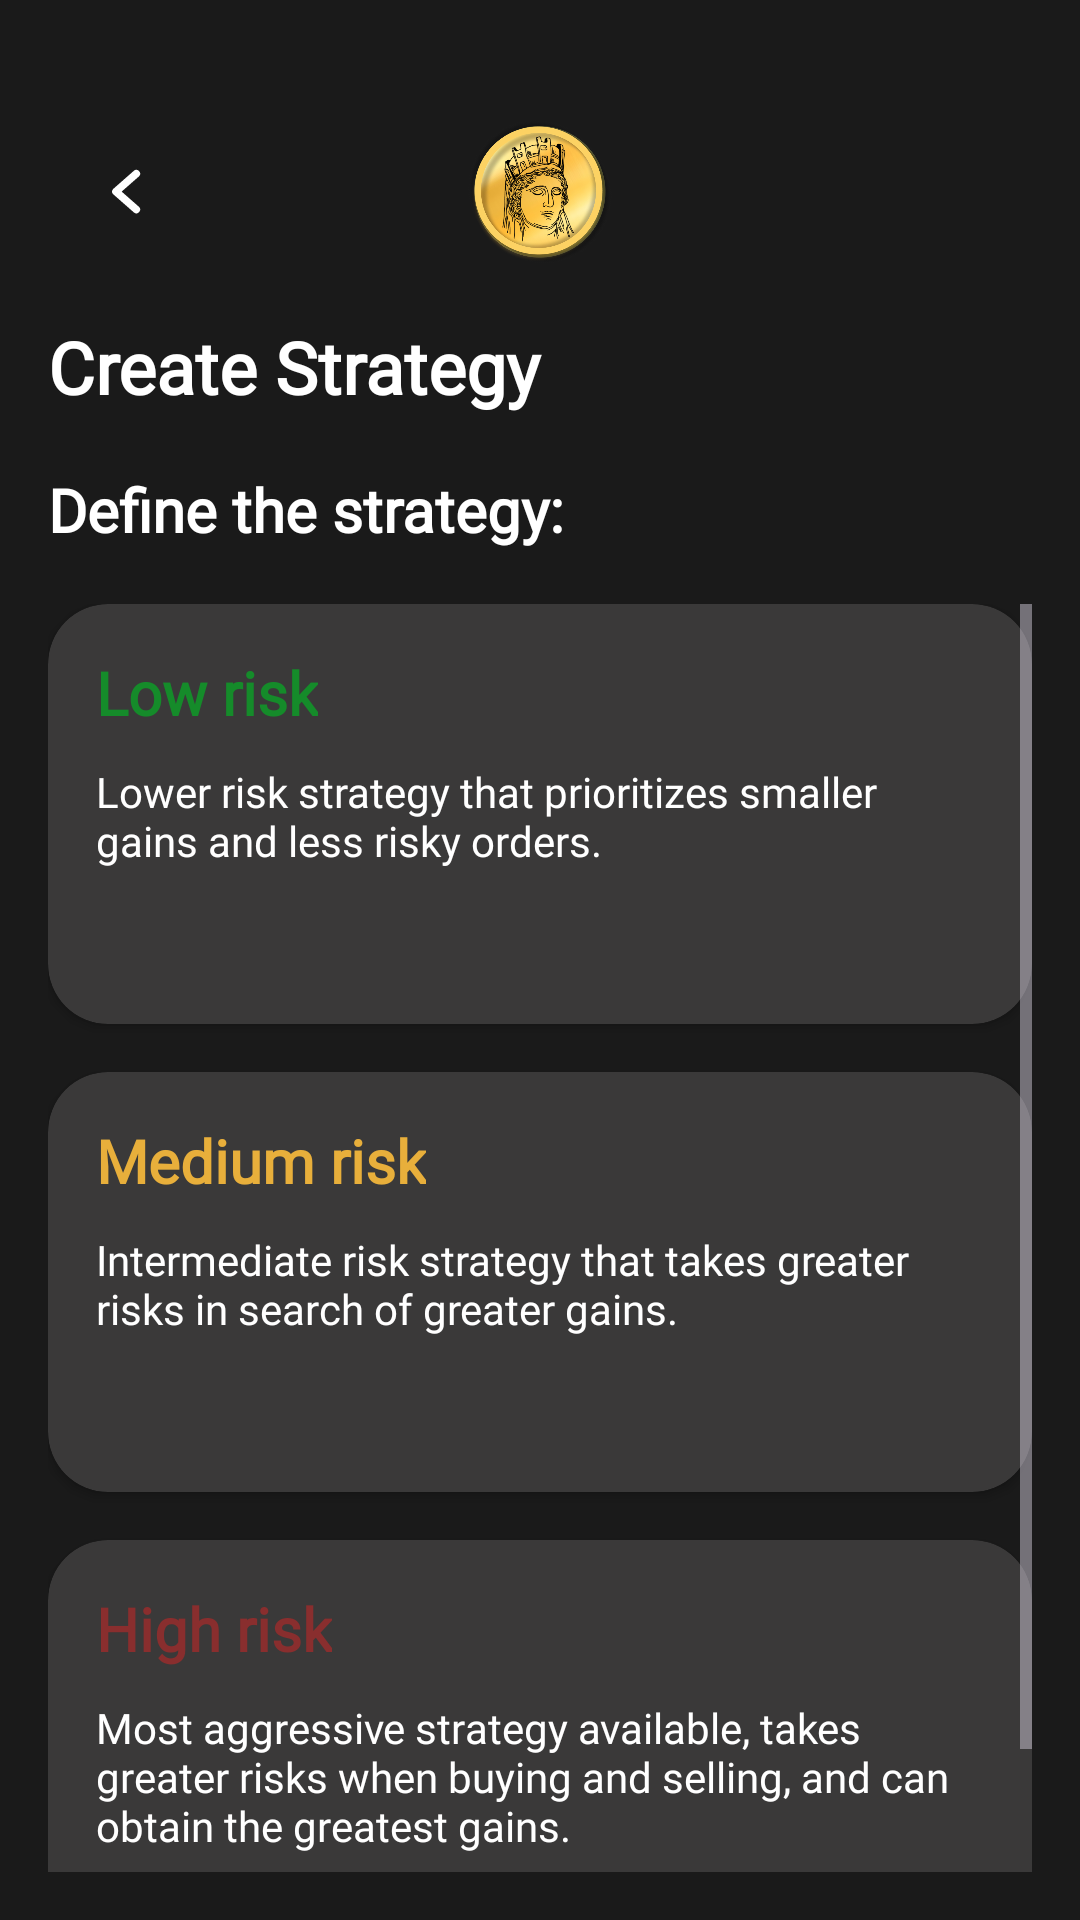

Screen size 1080 × 1920. Icon name, then its box in pixels as (x1, y1, x2, y2):
caret left sm: (112, 169, 141, 214)
